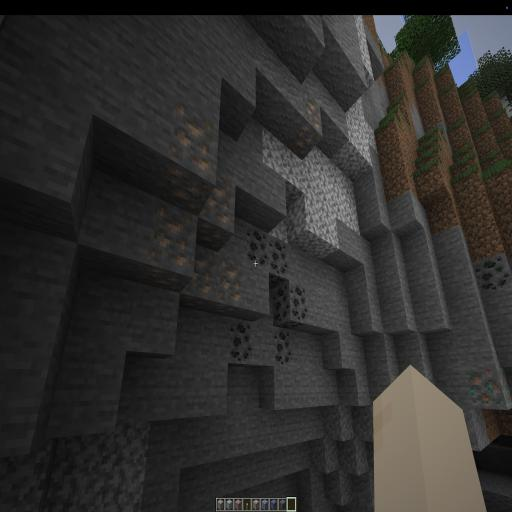coal ore: (248, 228, 308, 335), (230, 321, 296, 370), (475, 250, 510, 301)
iron ore: (145, 96, 244, 312), (289, 92, 323, 161)
